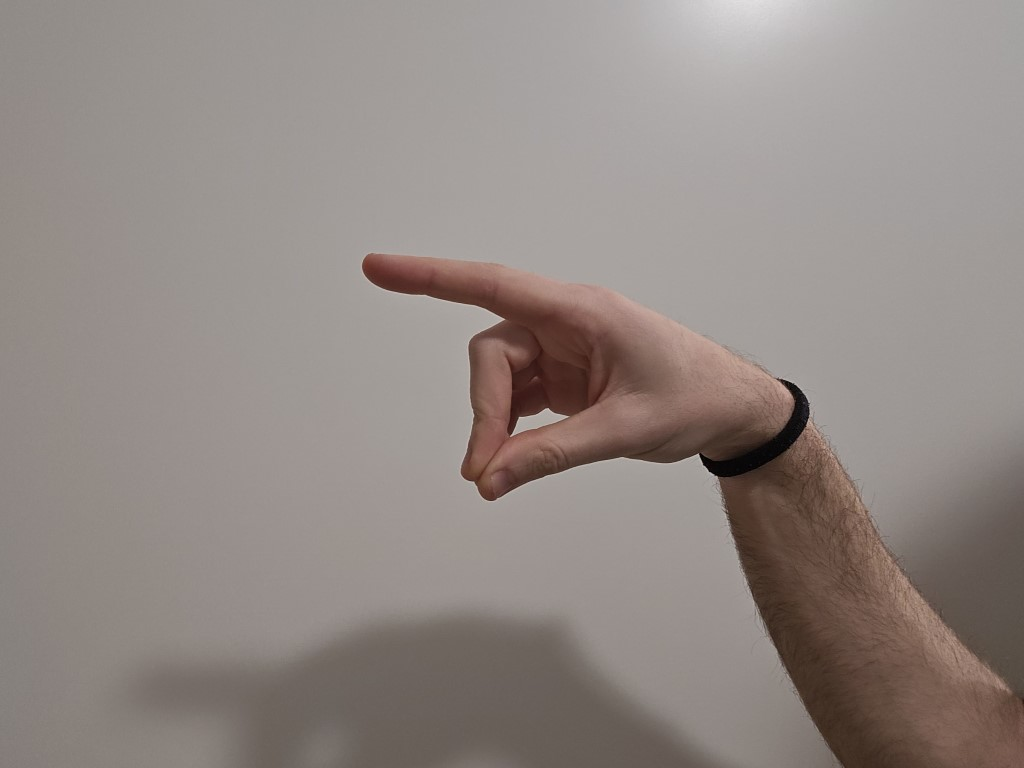p: (330, 224, 714, 527)
